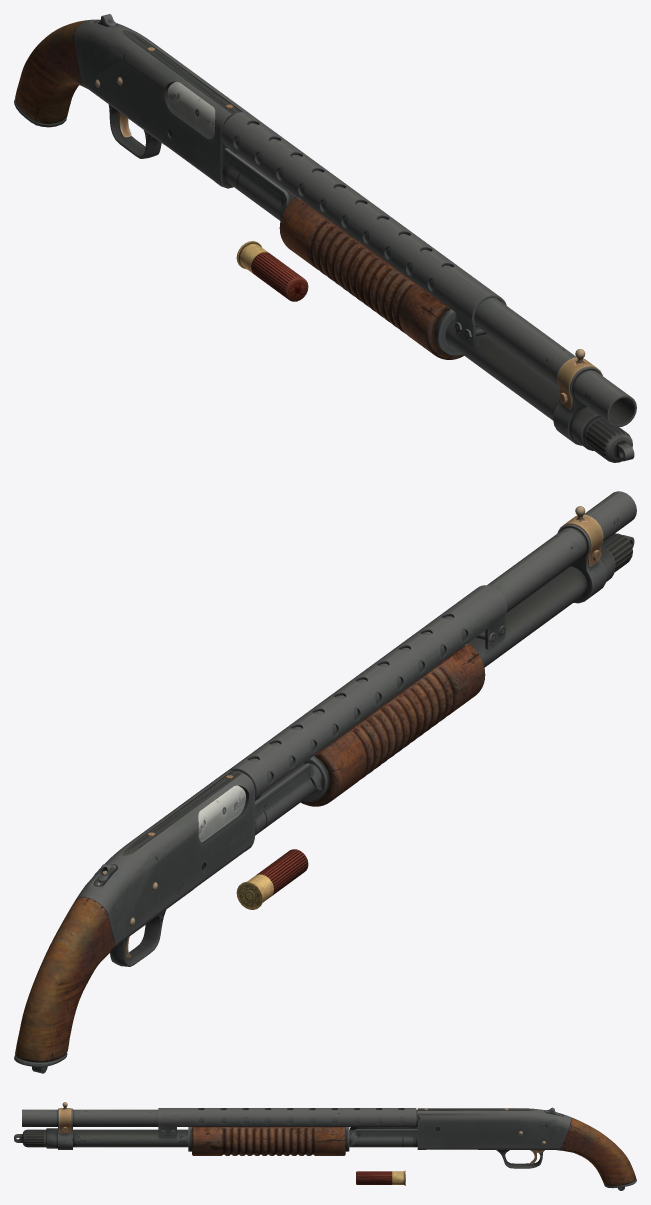
File: shotgun_test.glb
3 renders of one model, top to bottom at view 1: azimuth 30°, elevation 25°; view 2: azimuth 150°, elevation 25°; view 3: azimuth 270°, elevation 25°, orthographic. The views are drawn at different scales.
Parts seen in each view (by area): view 1: base, pump, shell; view 2: base, pump, shell; view 3: base, pump, shell.
Part boxes in pixels (x1,y1,x2,y2): base: [14, 14, 636, 462]; pump: [167, 81, 463, 359]; shell: [236, 241, 308, 301]; base: [14, 491, 636, 1073]; pump: [198, 644, 485, 842]; shell: [236, 849, 308, 909]; base: [14, 1102, 636, 1190]; pump: [188, 1127, 417, 1155]; shell: [356, 1170, 405, 1185].
Size of the model in its own units: 0.0327 by 0.0898 by 0.5791.
Materials: 1 (1 with a texture image).
